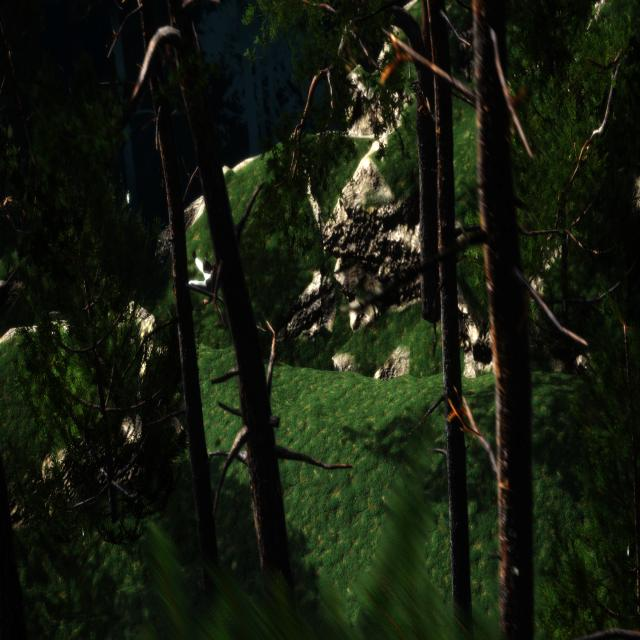Human: (188, 254, 222, 304)
